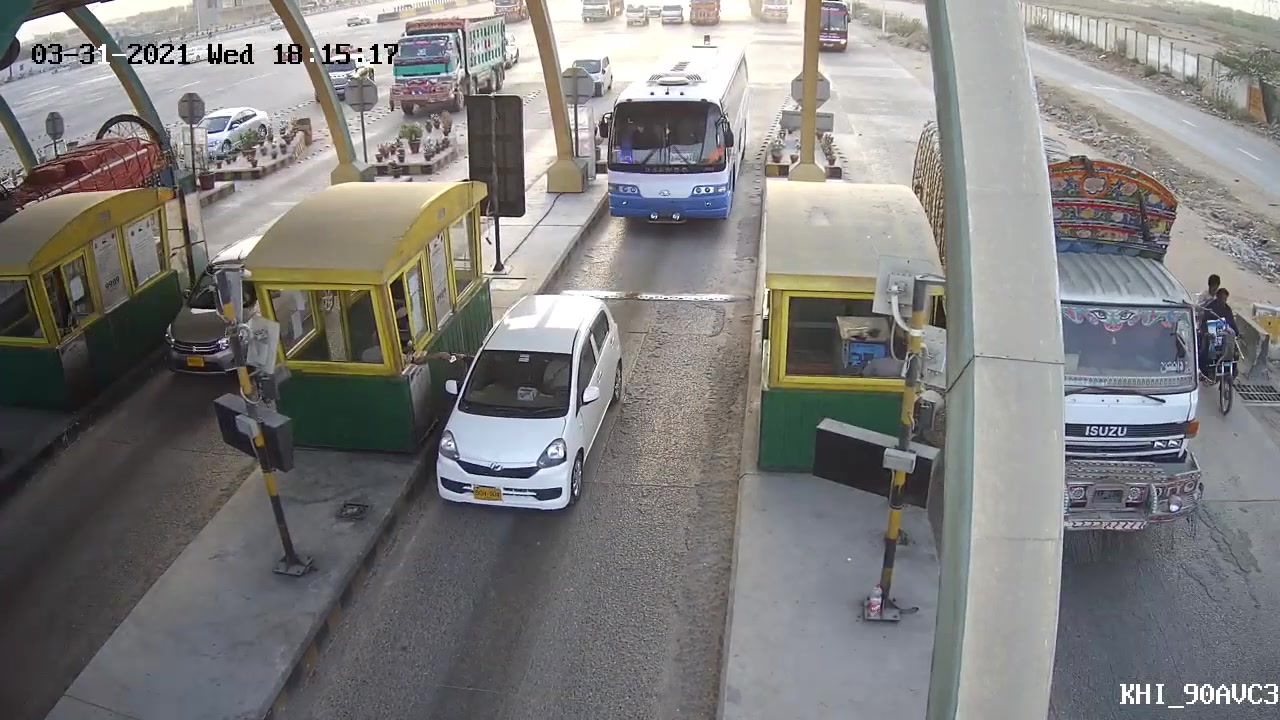F1: (429, 289, 628, 515)
F4: (591, 72, 749, 228)
